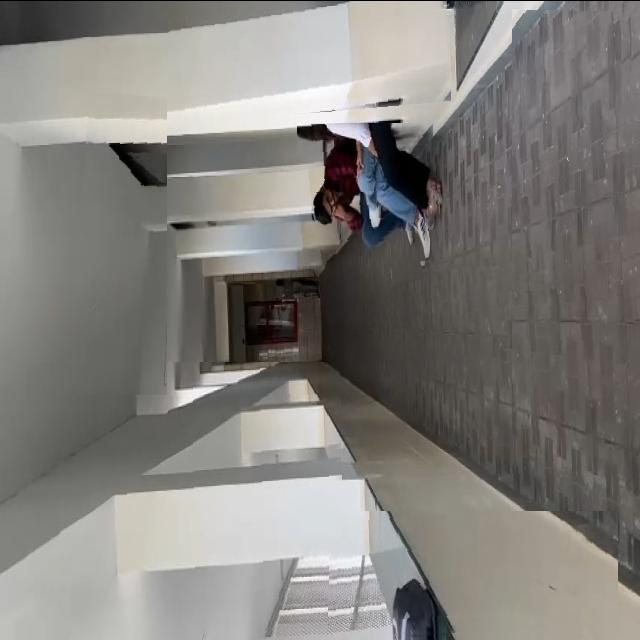floor: (512, 8, 640, 496), (325, 252, 509, 357)
moving_object: (298, 122, 442, 240)
wall: (27, 361, 344, 634), (327, 510, 618, 640), (168, 0, 451, 125), (65, 91, 167, 394), (177, 161, 299, 274)
